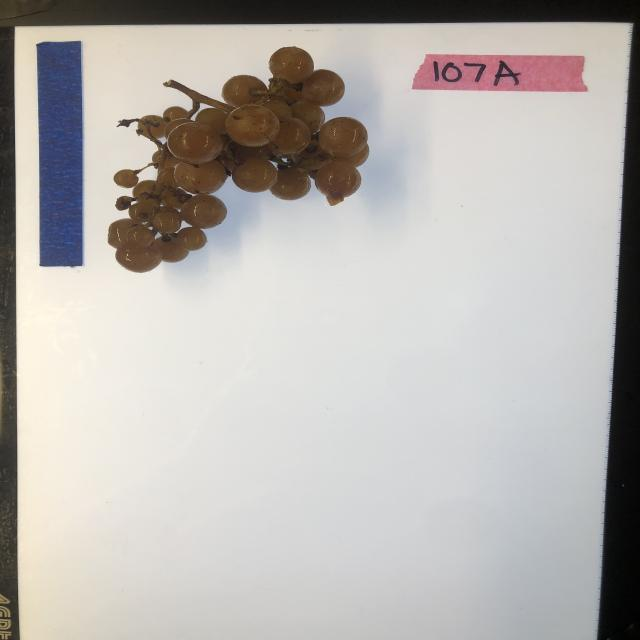grape_cluster: (109, 44, 371, 274)
index: (410, 54, 592, 92)
measure_label: (36, 39, 84, 268)
